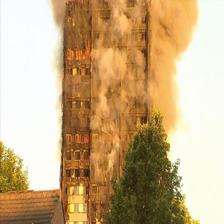fire: (60, 37, 137, 78), (55, 119, 121, 151)
